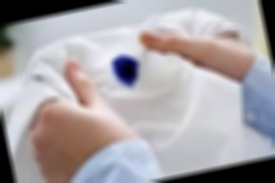ink: (112, 53, 142, 87)
